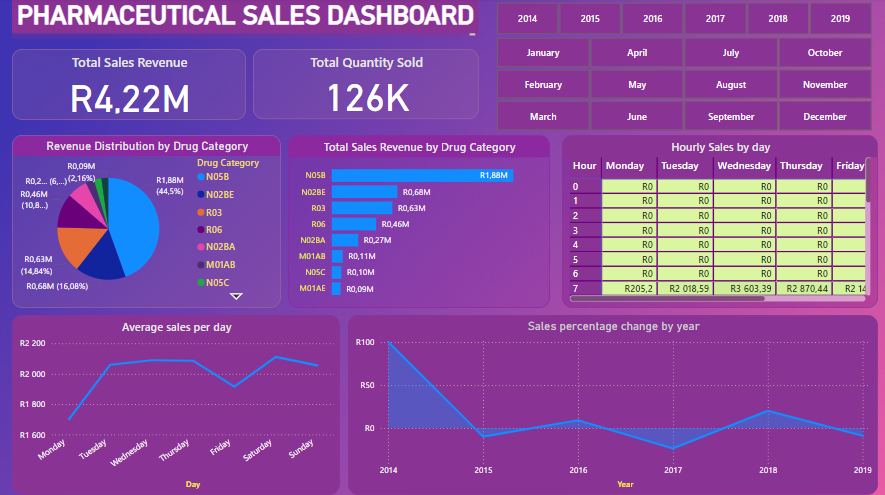

What the dashboard file says about the page in this screenshot:
{"tool":"powerbi","page":{"name":"Sales Performance","canvas":[1280,720],"ordinal":0},"visuals":[{"type":"card","title":"Total Sales Revenue","fields":{"Values":["KPI.Total Sales"]},"box":[18.7,73.4,337,102.2],"z":0},{"type":"card","title":"Total Quantity Sold","fields":{"Values":["KPI.Total Quantity"]},"box":[365.8,73.4,325.4,100.8],"z":1000},{"type":"pieChart","title":"Revenue Distribution by Drug Category","fields":{"Category":["Drug Table.Drug Category"],"Y":["Sum(Fact Table.Total Sales Revenue)"]},"box":[18.7,197.3,387.4,249.1],"z":2000},{"type":"barChart","title":"Total Sales Revenue by Drug Category","fields":{"Category":["Drug Table.Drug Category"],"Y":["Sum(Fact Table.Total Sales Revenue)"]},"box":[416.2,197.3,377.3,249.1],"z":3000},{"type":"pivotTable","title":"Hourly Sales by day","fields":{"Rows":["Time Table.Hour"],"Columns":["Fact Table.Day of week.1"],"Values":["Sum(Fact Table.Total Sales Revenue)"]},"box":[810.7,197.3,455,249.1],"z":4000},{"type":"lineChart","title":"Average sales per day","fields":{"Category":["Fact Table.Day of week.1"],"Y":["KPI.Average sales per day"]},"box":[18.7,456.5,472.3,259.2],"z":5000},{"type":"areaChart","title":"Sales percentage change by year","fields":{"Category":["Real Date.Year"],"Y":["KPI.%_change_year"]},"box":[502.6,456.5,763.2,259.2],"z":6000},{"type":"textbox","title":"PHARMACEUTICAL SALES DASHBOARD","box":[18.7,2.9,672.5,56.2],"z":7000},{"type":"slicer","fields":{"Values":["Real Date.Year"]},"box":[691.2,0,589,59],"z":8000},{"type":"slicer","fields":{"Values":["Real Date.Month Name"]},"box":[691.2,50.4,589,146.9],"z":9000}]}

Visuals, with their boxes in screenshot pixels (x1, y1, x2, y2), scaled from the page's 1280x720 canvas onto the 885x495 screenshot:
"Total Sales Revenue" card: select_region(13, 50, 246, 121)
"Total Quantity Sold" card: select_region(253, 50, 478, 120)
"Revenue Distribution by Drug Category" pieChart: select_region(13, 136, 281, 307)
"Total Sales Revenue by Drug Category" barChart: select_region(288, 136, 549, 307)
"Hourly Sales by day" pivotTable: select_region(561, 136, 875, 307)
"Average sales per day" lineChart: select_region(13, 314, 339, 492)
"Sales percentage change by year" areaChart: select_region(348, 314, 875, 492)
"PHARMACEUTICAL SALES DASHBOARD" textbox: select_region(13, 2, 478, 41)
slicer - Real Date.Year: select_region(478, 0, 884, 41)
slicer - Real Date.Month Name: select_region(478, 35, 884, 136)
